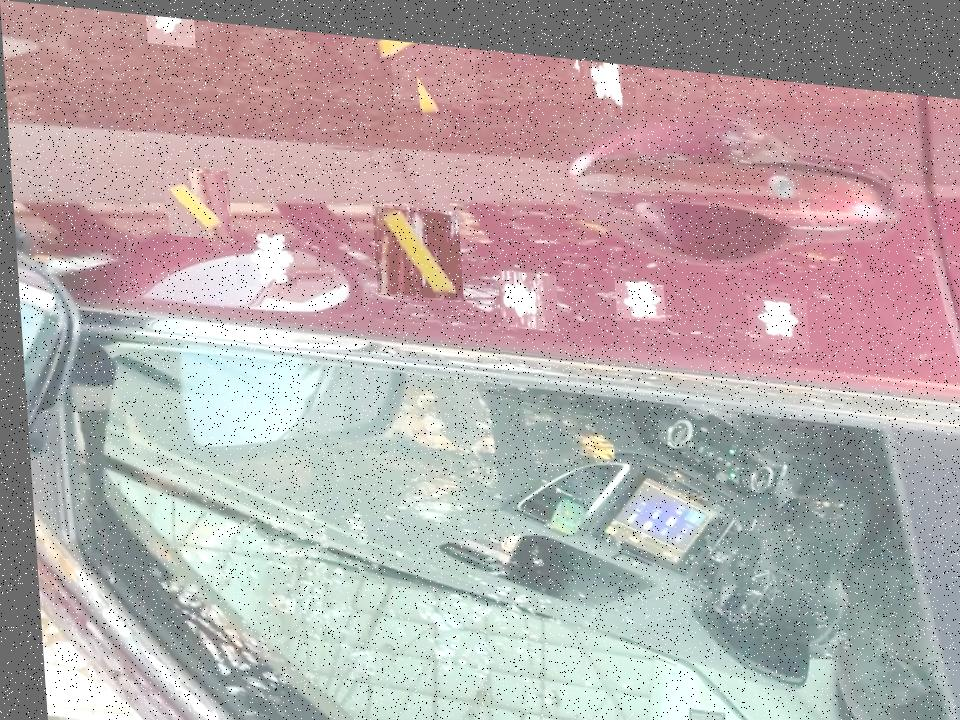dent: (230, 217, 293, 284), (494, 257, 554, 320), (743, 278, 806, 337), (576, 47, 630, 98), (611, 267, 662, 308), (146, 12, 195, 44)
scratch: (369, 197, 460, 290), (390, 32, 477, 97), (160, 163, 231, 235)
